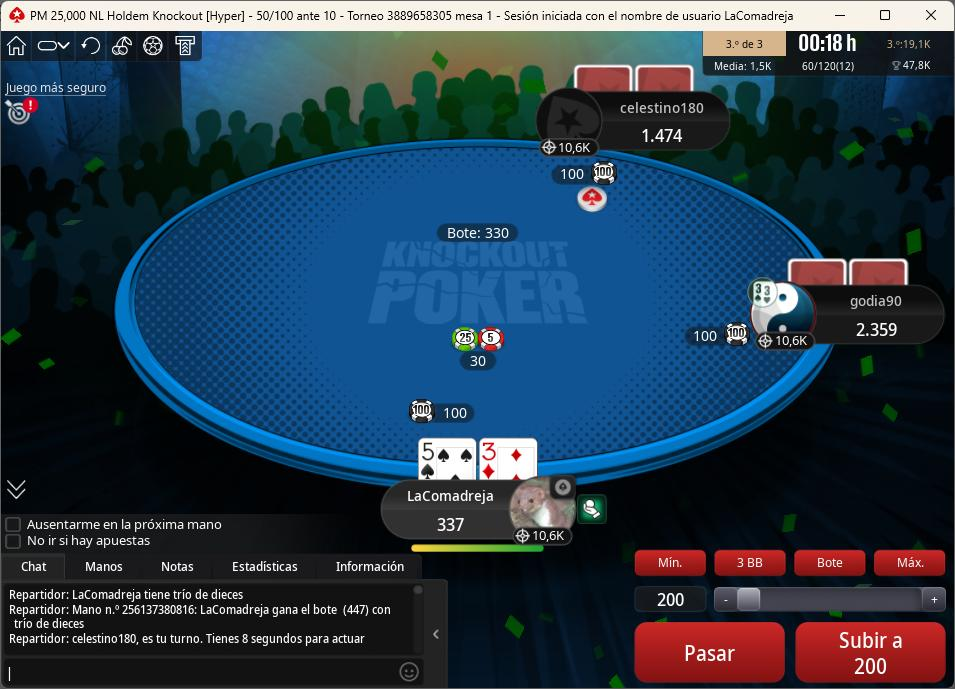ButtonCall: (623, 616, 782, 686)
ButtonMaxRaise: (872, 548, 949, 580)
ButtonMinRaise: (634, 548, 714, 580)
ButtonRaise: (790, 616, 951, 686)
Dealer: (565, 182, 622, 218)
HiddenCards: (785, 259, 916, 286), (574, 68, 702, 94)
Player: (745, 284, 948, 351), (539, 88, 731, 156)
PlayerBet: (542, 159, 624, 191), (680, 321, 755, 350)
PlayerChips: (634, 125, 695, 145), (849, 323, 903, 342)
Pot: (434, 224, 522, 244)
PrincipalBet: (406, 399, 480, 426)
PrincipalCards: (415, 438, 545, 484)
PrincipalCards1: (415, 436, 477, 482)
PrincipalCards2: (480, 436, 542, 482)
PrincipalPlayer: (385, 478, 594, 553)
PrincipalPlayerChips: (424, 519, 475, 538)
SmallBigBlind: (244, 4, 345, 26)
TablePot: (447, 326, 535, 378)
